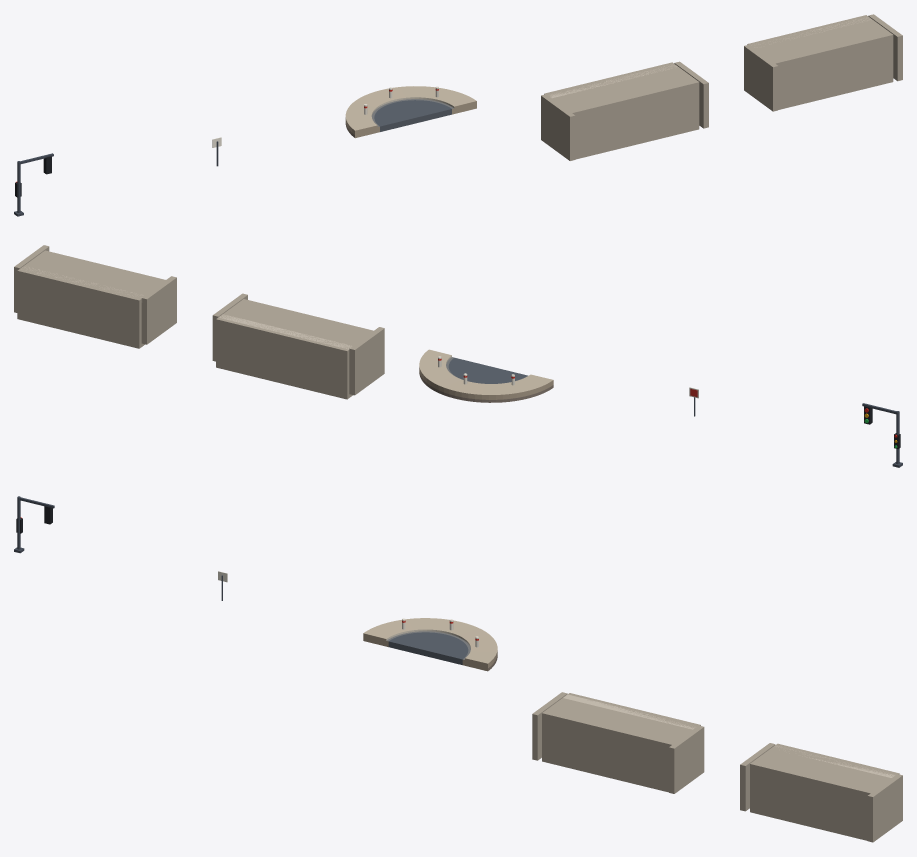
File: rkit_r3_parts_isolated.glb
The picture shows the model from 3 angles, top to bottom: view 1: azimuth 30°, elevation 25°; view 2: azimuth 150°, elevation 25°; view 3: azimuth 330°, elevation 25°; orthographic projection. The views are drawn at different scales.
Visible parts, largest first — view 1: PART_abutment_TOWN_1_1, PART_abutment_COUNTRY_1_1, PART_end_cap_TOWN_1_1, PART_signal_mast; view 2: PART_abutment_TOWN_1_1, PART_abutment_COUNTRY_1_1, PART_end_cap_TOWN_1_1, PART_signal_mast; view 3: PART_abutment_TOWN_1_1, PART_abutment_COUNTRY_1_1, PART_end_cap_TOWN_1_1.
Part boxes in pixels (x1=…): PART_abutment_TOWN_1_1: x1=541, y1=61, x2=708, y2=160; PART_abutment_COUNTRY_1_1: x1=744, y1=14, x2=902, y2=111; PART_end_cap_TOWN_1_1: x1=345, y1=86, x2=476, y2=138; PART_signal_mast: x1=14, y1=153, x2=53, y2=216; PART_abutment_TOWN_1_1: x1=212, y1=293, x2=384, y2=399; PART_abutment_COUNTRY_1_1: x1=14, y1=245, x2=176, y2=348; PART_end_cap_TOWN_1_1: x1=419, y1=349, x2=553, y2=402; PART_signal_mast: x1=862, y1=403, x2=902, y2=467; PART_abutment_TOWN_1_1: x1=532, y1=692, x2=704, y2=793; PART_abutment_COUNTRY_1_1: x1=740, y1=743, x2=902, y2=842; PART_end_cap_TOWN_1_1: x1=363, y1=618, x2=497, y2=671.
Size of the model in its own units: 95.55 by 12 by 11.55.
